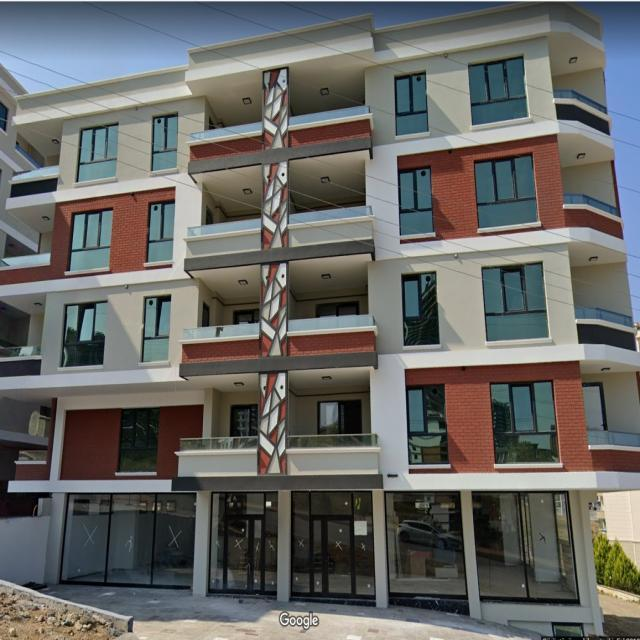Building: (0, 4, 640, 638)
